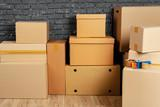Box: (113, 6, 160, 52), (0, 62, 48, 98), (65, 65, 120, 95), (122, 65, 160, 107), (69, 36, 114, 65), (47, 40, 66, 94), (0, 42, 47, 62), (129, 26, 160, 53), (16, 21, 49, 43), (76, 14, 106, 37), (123, 51, 160, 65)
